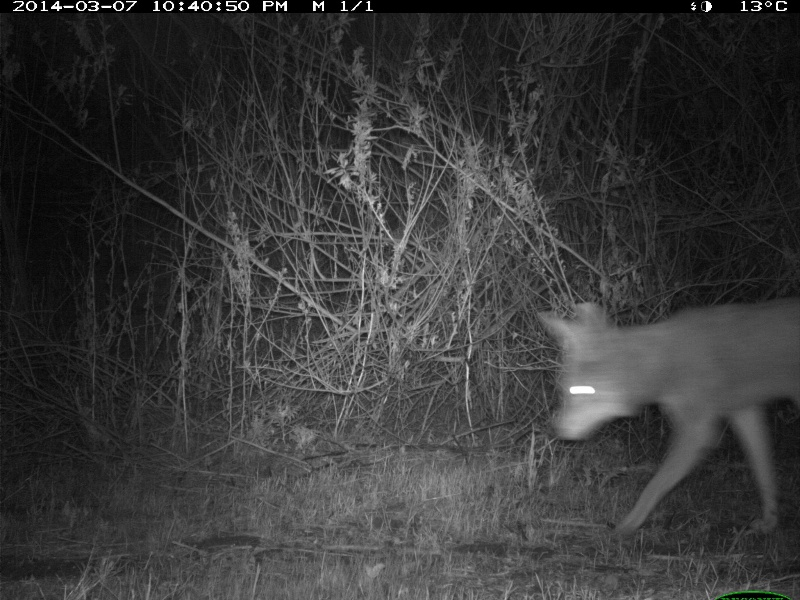coyote: (537, 288, 799, 549)
